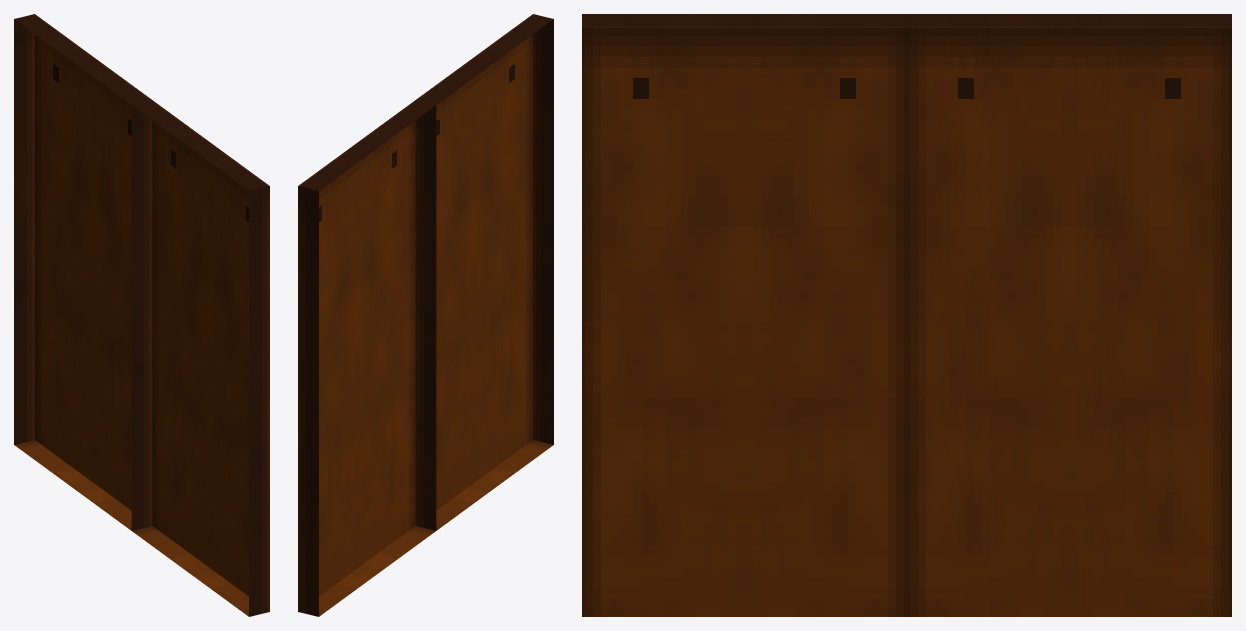
File: wood-wall.glb
3 renders of one model, left to right at view 1: azimuth 30°, elevation 25°; view 2: azimuth 150°, elevation 25°; view 3: azimuth 270°, elevation 25°, orthographic. The views are drawn at different scales.
Visible parts, largest first — view 1: Plane, Plane.001; view 2: Plane, Plane.001; view 3: Plane, Plane.001.
Part boxes in pixels (bbox=[...]): Plane: bbox=[14, 14, 152, 530]; Plane.001: bbox=[131, 100, 269, 616]; Plane: bbox=[298, 100, 436, 616]; Plane.001: bbox=[415, 14, 553, 530]; Plane: bbox=[907, 14, 1231, 616]; Plane.001: bbox=[582, 14, 906, 616].
Size of the model in its own units: 0.1017 by 2 by 2.
1 material, 1 textured.
